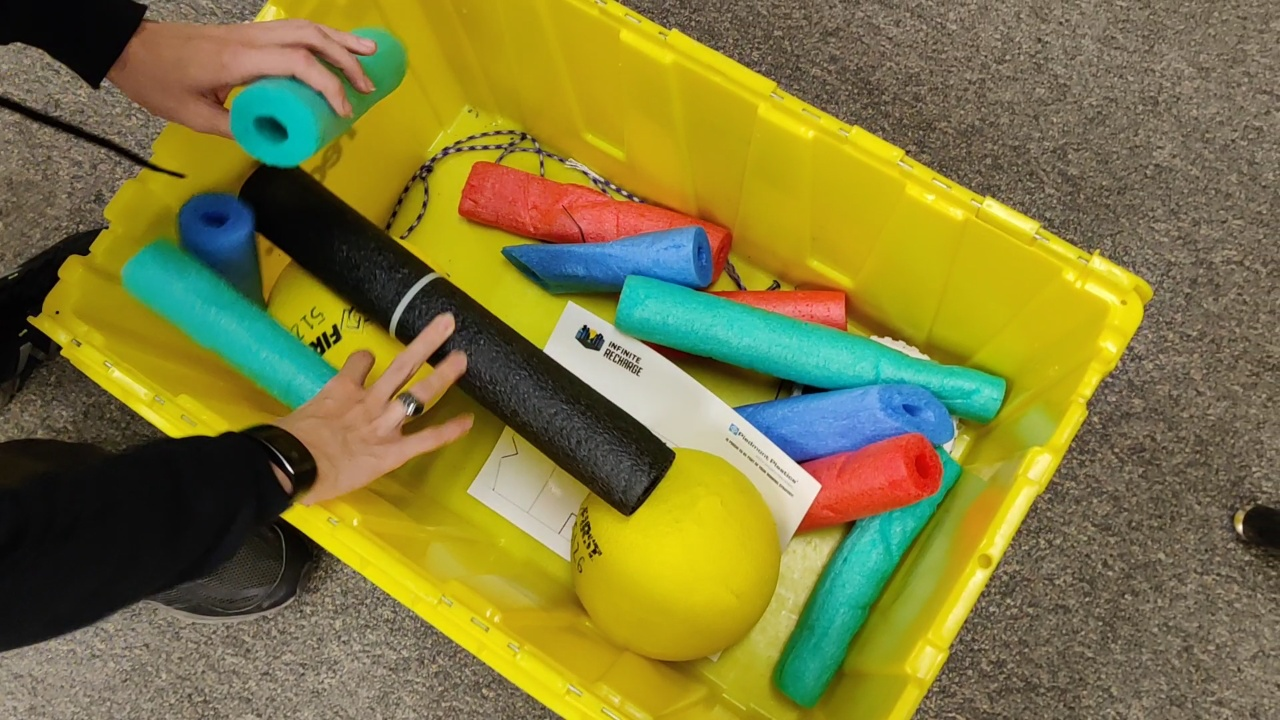Ball: (573, 450, 777, 665)
